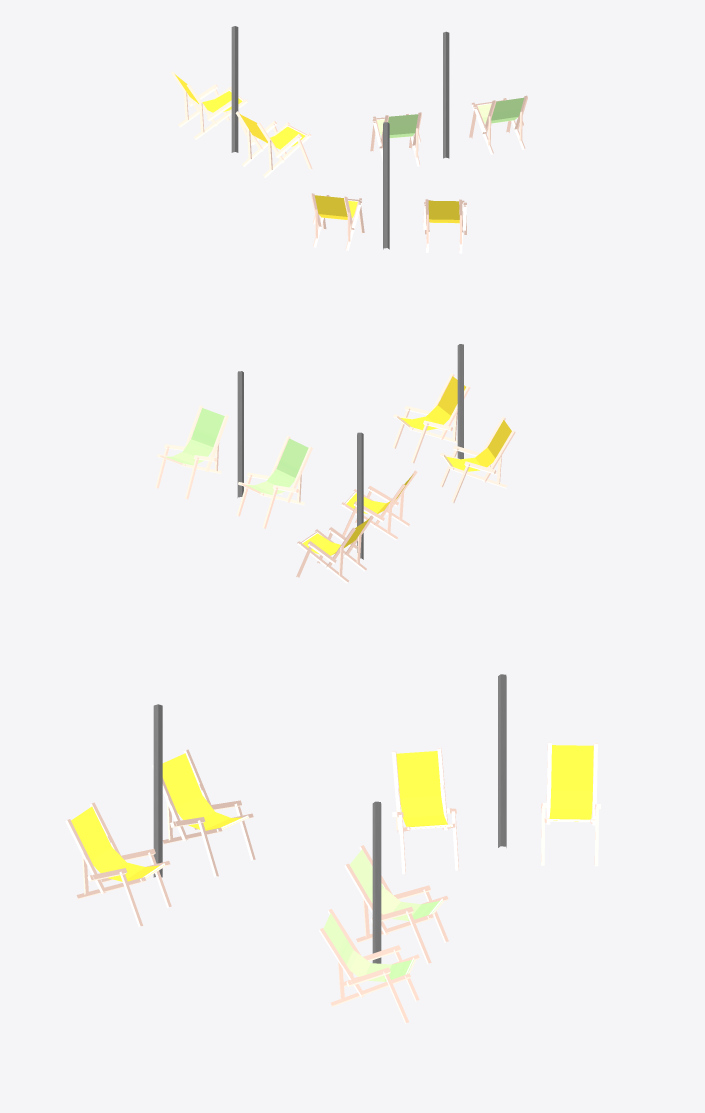
File: beach_tile_1x1_2.glb
3 views of the same model, one above another, from view 1: azimuth 30°, elevation 25°; view 2: azimuth 150°, elevation 25°; view 3: azimuth 270°, elevation 25° (orthographic). The views are drawn at different scales.
Visible parts, largest first — view 1: beach_tile_1x1_2(Clone); view 2: beach_tile_1x1_2(Clone); view 3: beach_tile_1x1_2(Clone).
Part boxes in pixels (box(x1,y1,x2,y2)): beach_tile_1x1_2(Clone): box(171, 26, 527, 253); beach_tile_1x1_2(Clone): box(155, 344, 515, 583); beach_tile_1x1_2(Clone): box(65, 674, 600, 1023).
Bounding box in the file's own units: 8 × 3.17 × 8.
1 material, 1 textured.
